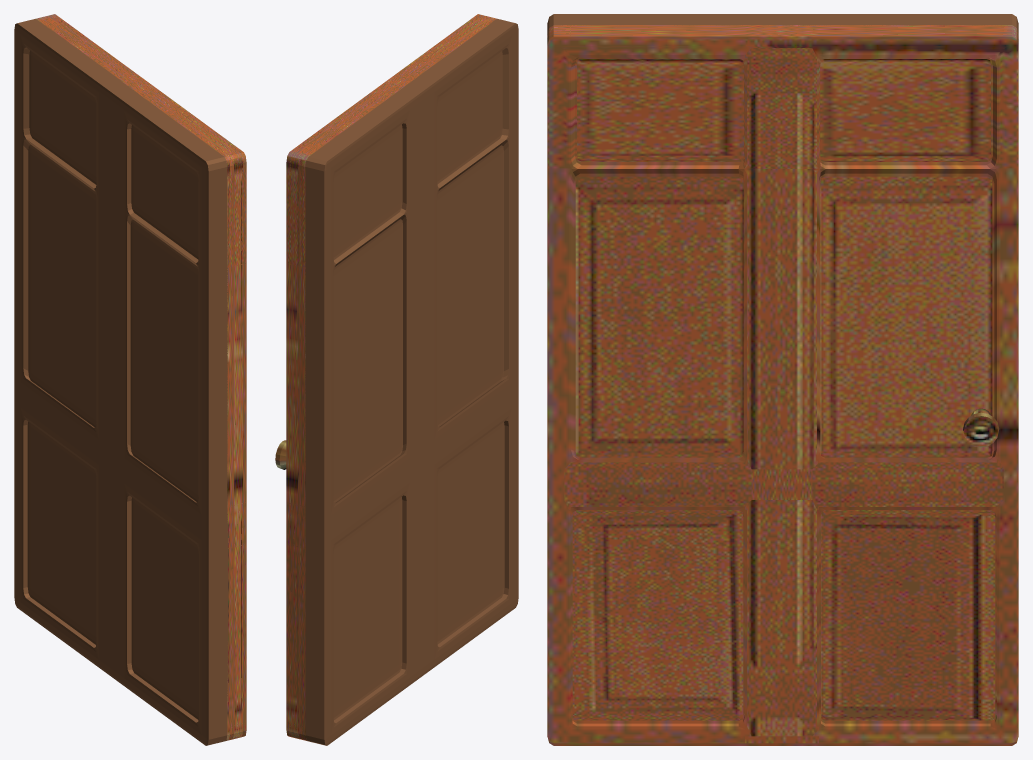
File: door1.fbx
The picture shows the model from 3 angles, left to right: view 1: azimuth 30°, elevation 25°; view 2: azimuth 150°, elevation 25°; view 3: azimuth 270°, elevation 25°; orthographic projection. The views are drawn at different scales.
Visible parts, largest first — view 1: Cube; view 2: Cube; view 3: Cube, Cylinder.
Part boxes in pixels (box(x1,y1,x2,y2)): Cube: box(14, 14, 246, 745); Cube: box(286, 14, 518, 745); Cube: box(547, 14, 1018, 745); Cylinder: box(963, 408, 999, 447).
Size of the model in its own units: 75.07 by 726 by 437.
